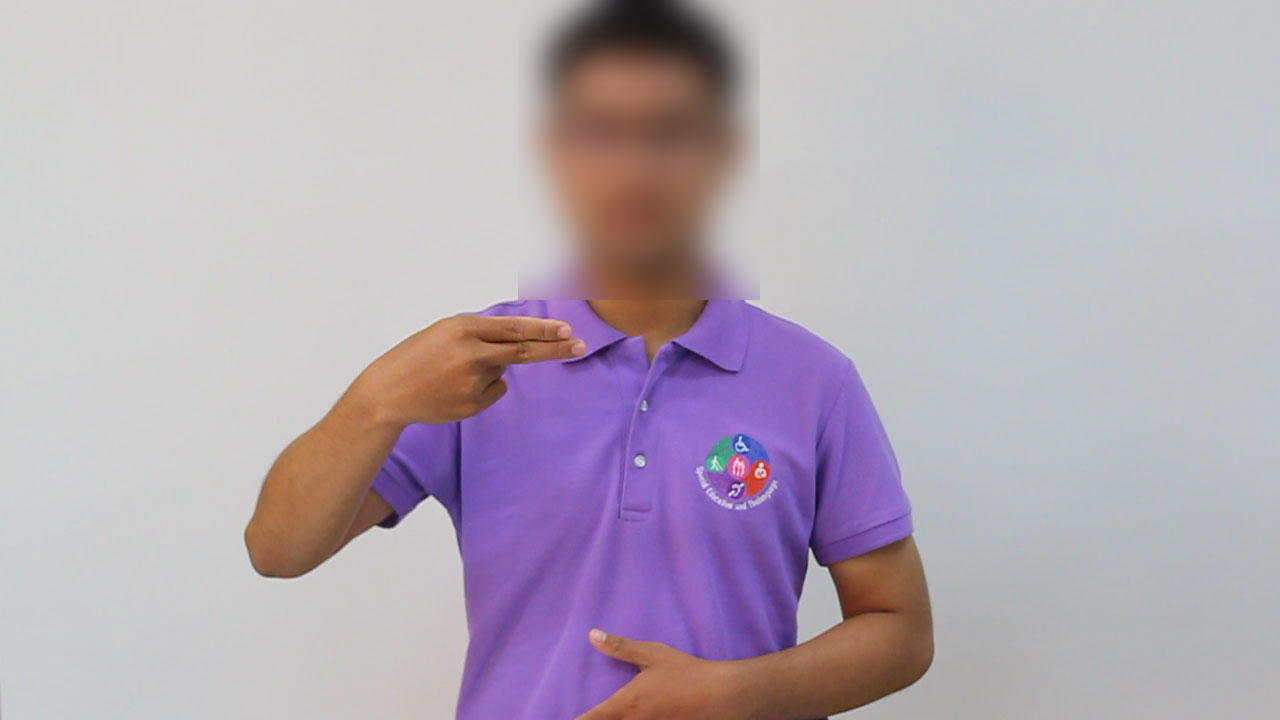hor: (347, 306, 594, 434)
